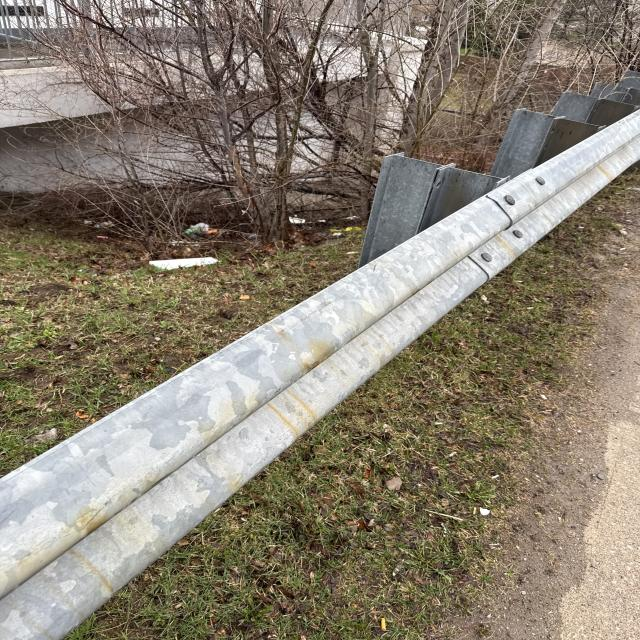Guard rail: (38, 140, 640, 607)
